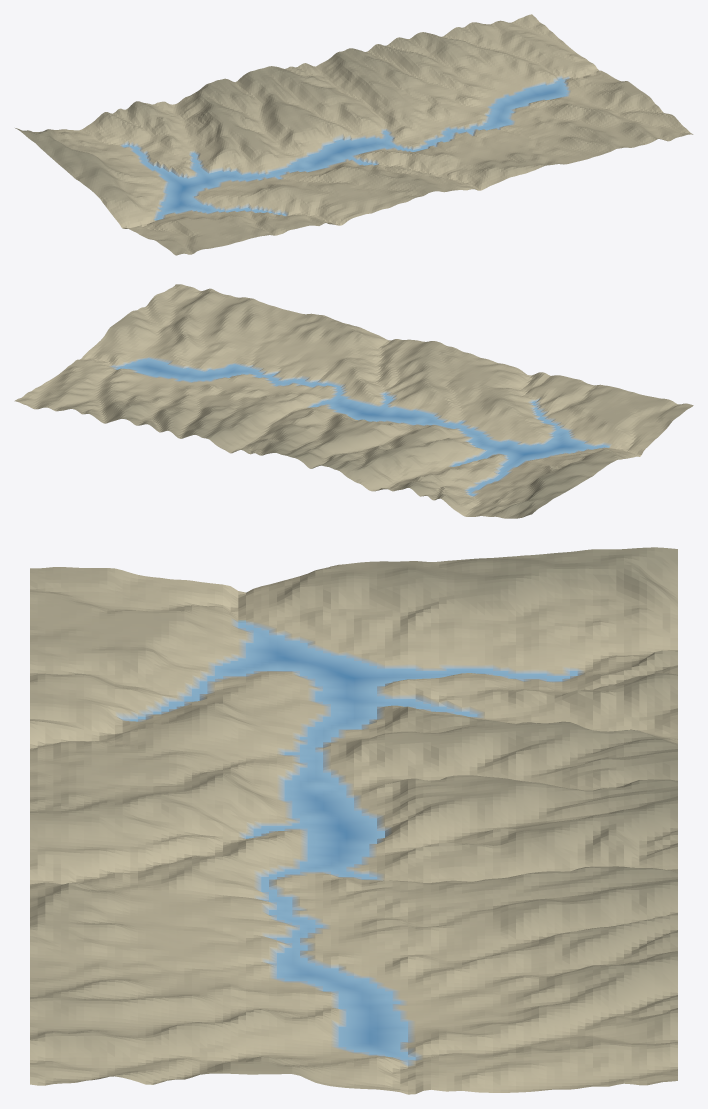
Rendered from blue_mesa_reservoir_co.glb.
The picture shows the model from 3 angles, top to bottom: view 1: azimuth 30°, elevation 25°; view 2: azimuth 150°, elevation 25°; view 3: azimuth 270°, elevation 25°; orthographic projection. The views are drawn at different scales.
Visible parts, largest first — view 1: terrain, water; view 2: terrain, water; view 3: terrain, water.
Boxes of the visible parts, x1=… form: terrain: x1=15, y1=14, x2=693, y2=255; water: x1=123, y1=78, x2=568, y2=220; terrain: x1=14, y1=284, x2=693, y2=518; water: x1=116, y1=358, x2=609, y2=495; terrain: x1=30, y1=547, x2=677, y2=1094; water: x1=130, y1=620, x2=577, y2=1059.
Bounding box in the file's own units: 27841 × 1175 × 15078.
